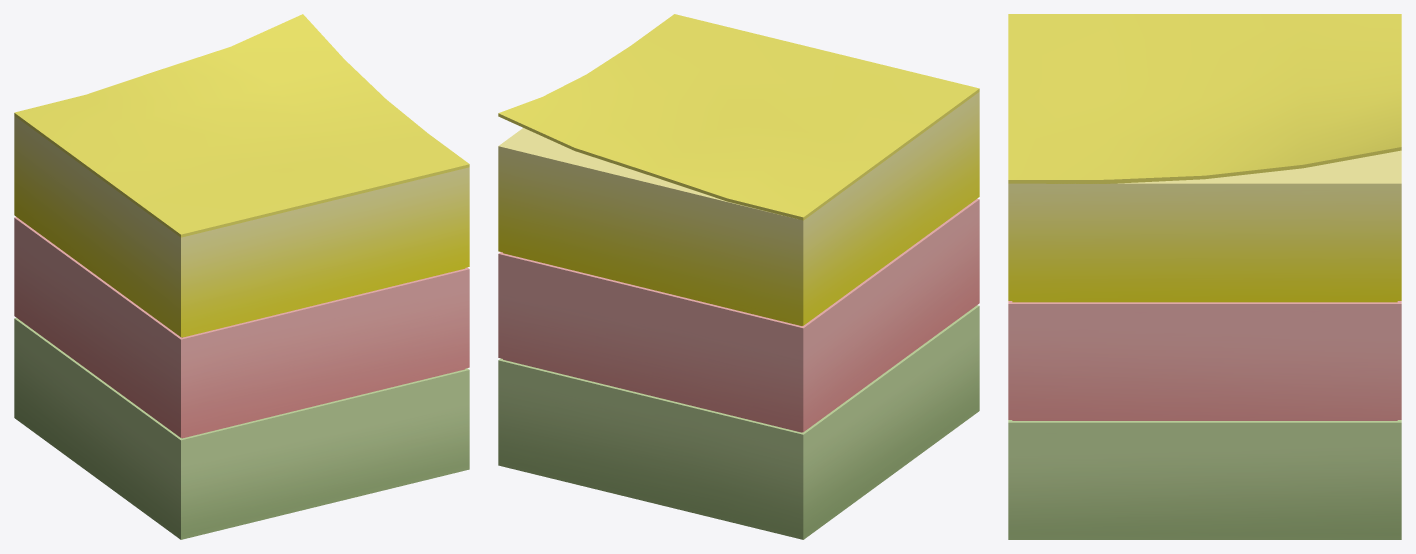
Rendered from Desk_stickynotes.FBX.
The picture shows the model from 3 angles, left to right: view 1: azimuth 30°, elevation 25°; view 2: azimuth 150°, elevation 25°; view 3: azimuth 270°, elevation 25°; orthographic projection. The views are drawn at different scales.
Parts seen in each view (by area): view 1: Desk_StickyNotes; view 2: Desk_StickyNotes; view 3: Desk_StickyNotes.
Boxes of the visible parts, <box> form: Desk_StickyNotes: <box>14,14,469,539</box>; Desk_StickyNotes: <box>498,14,979,539</box>; Desk_StickyNotes: <box>1008,14,1401,539</box>.
Size of the model in its own units: 3.94 by 4.34 by 3.94.
